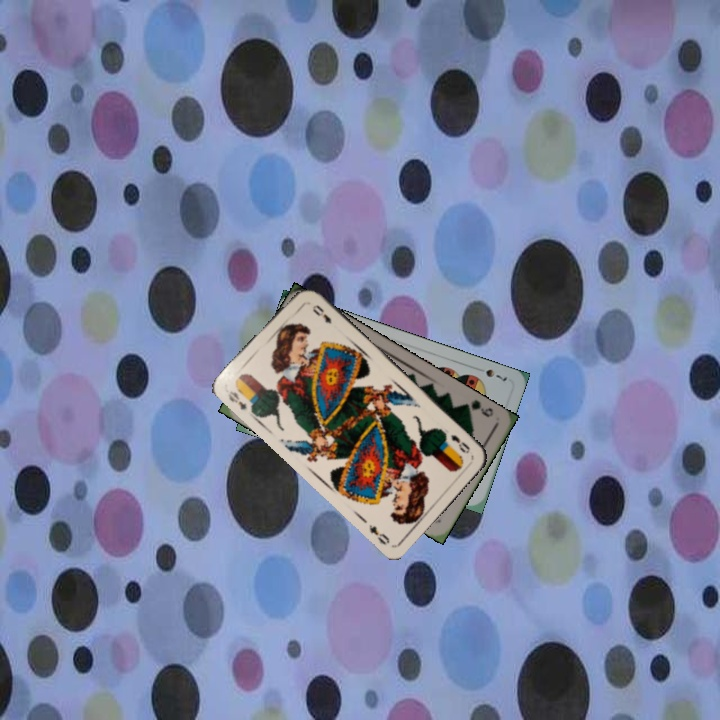EO: (447, 430, 473, 456), (224, 387, 249, 412)
G9: (458, 395, 496, 420)
S7: (472, 363, 510, 384)
